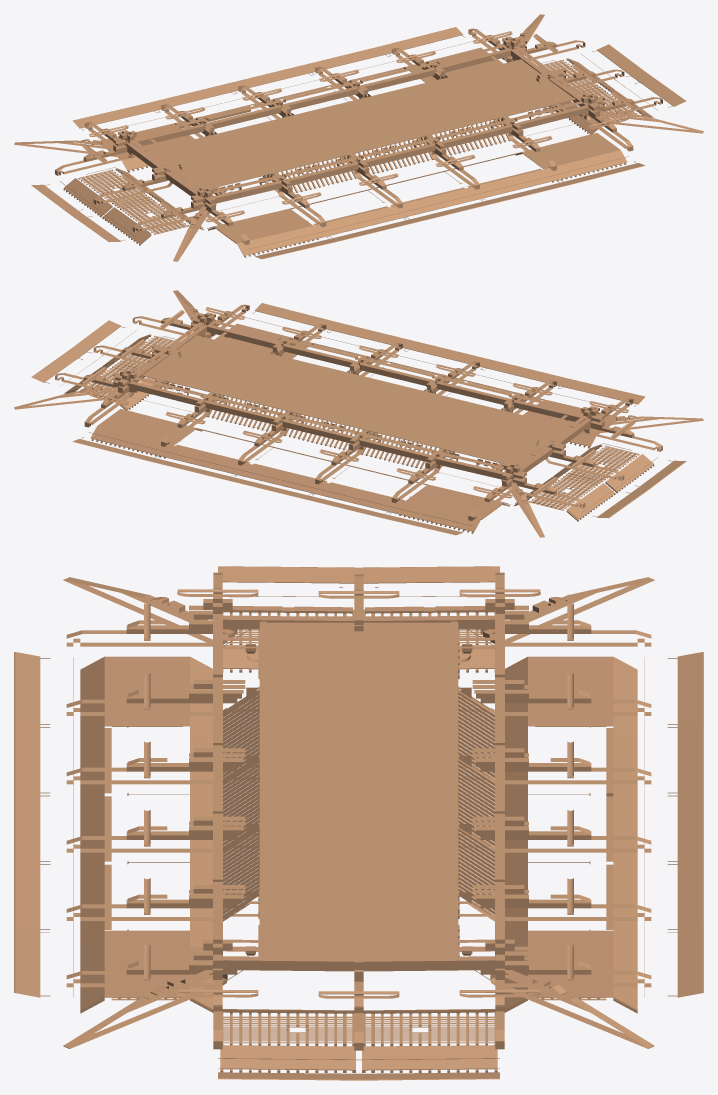
3 views of the same model, one above another, from view 1: azimuth 30°, elevation 25°; view 2: azimuth 150°, elevation 25°; view 3: azimuth 270°, elevation 25° (orthographic). The views are drawn at different scales.
Visible parts, largest first — view 1: Layer_5; view 2: Layer_5; view 3: Layer_5.
Boxes of the visible parts, x1=… form: Layer_5: x1=14, y1=14, x2=703, y2=261; Layer_5: x1=14, y1=290, x2=703, y2=537; Layer_5: x1=14, y1=566, x2=703, y2=1080.
Bounding box in the file's own units: 10 × 0.6649 × 5.68.
